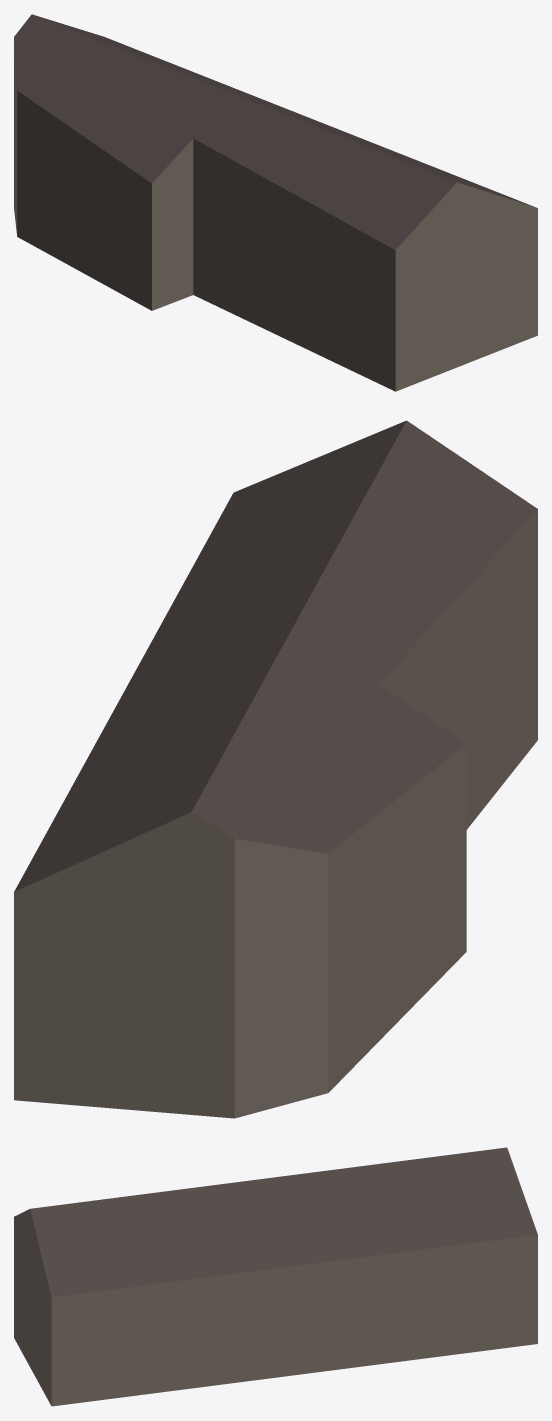
3 views of the same model, one above another, from view 1: azimuth 30°, elevation 25°; view 2: azimuth 150°, elevation 25°; view 3: azimuth 270°, elevation 25° (orthographic). The views are drawn at different scales.
Parts seen in each view (by area): view 1: HP-w1197560027; view 2: HP-w1197560027; view 3: HP-w1197560027.
Part boxes in pixels (<box>): HP-w1197560027: <box>14,14,537,391</box>; HP-w1197560027: <box>14,420,537,1118</box>; HP-w1197560027: <box>14,1147,537,1406</box>.
Size of the model in its own units: 14.26 by 8.72 by 26.11.
